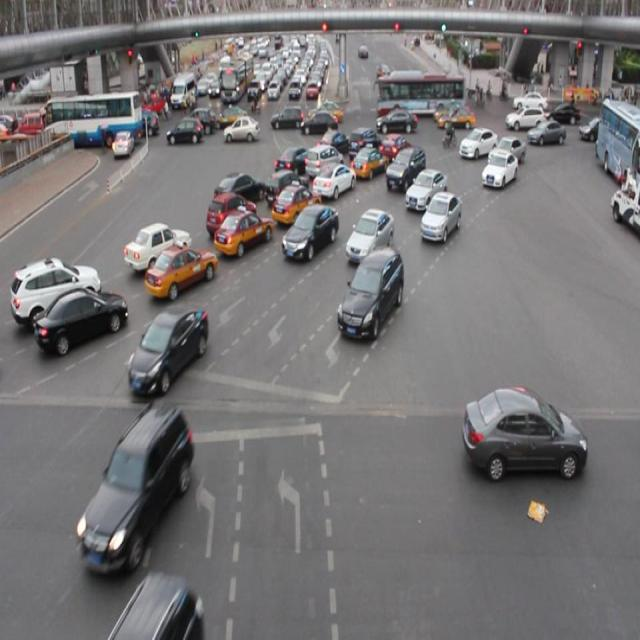car: (78, 403, 188, 570), (463, 388, 583, 477), (130, 305, 208, 394), (36, 287, 129, 355), (110, 573, 202, 640), (336, 245, 401, 338), (12, 254, 101, 321), (145, 241, 216, 299), (281, 205, 339, 262), (124, 222, 191, 269), (213, 205, 273, 255), (345, 208, 393, 263), (205, 191, 257, 236), (270, 181, 320, 223), (419, 192, 460, 242), (384, 146, 426, 192), (405, 168, 446, 212), (266, 166, 310, 207), (312, 160, 355, 198), (214, 173, 263, 206), (480, 149, 517, 189), (350, 144, 387, 182), (274, 145, 311, 180), (347, 128, 383, 162), (458, 127, 496, 159), (487, 136, 524, 168), (377, 133, 413, 164), (317, 129, 350, 157)
truck: (304, 144, 342, 180)
